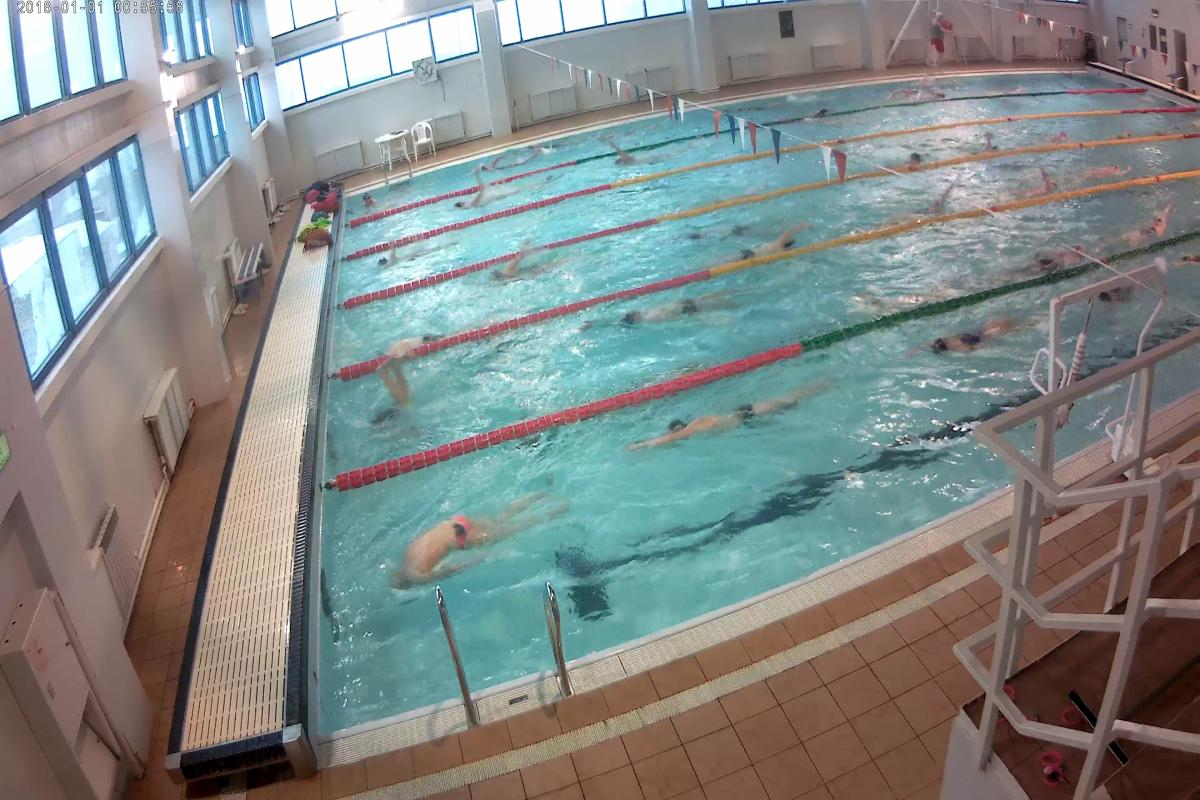swimmer: (376, 492, 562, 595), (632, 378, 840, 453), (605, 283, 740, 334), (914, 318, 1035, 365), (720, 223, 818, 266), (1117, 197, 1180, 247), (487, 249, 555, 285), (1031, 238, 1095, 276), (442, 174, 506, 207), (381, 323, 441, 358), (1080, 156, 1137, 184), (610, 144, 656, 172), (374, 249, 433, 270), (1021, 171, 1058, 196)
